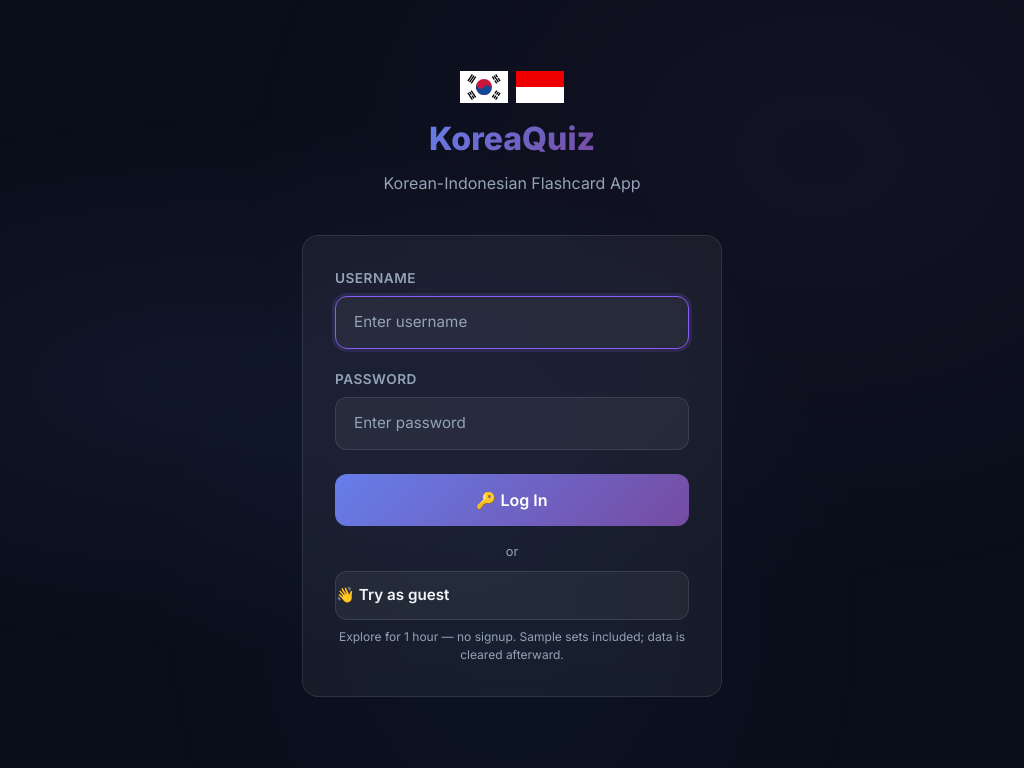
Test: LoginPage — loading state › re-enables the button after login fails
Type "user" into the field with placeholder "Enter username".
click(512, 323); type("user")  # box [335,296,689,349]
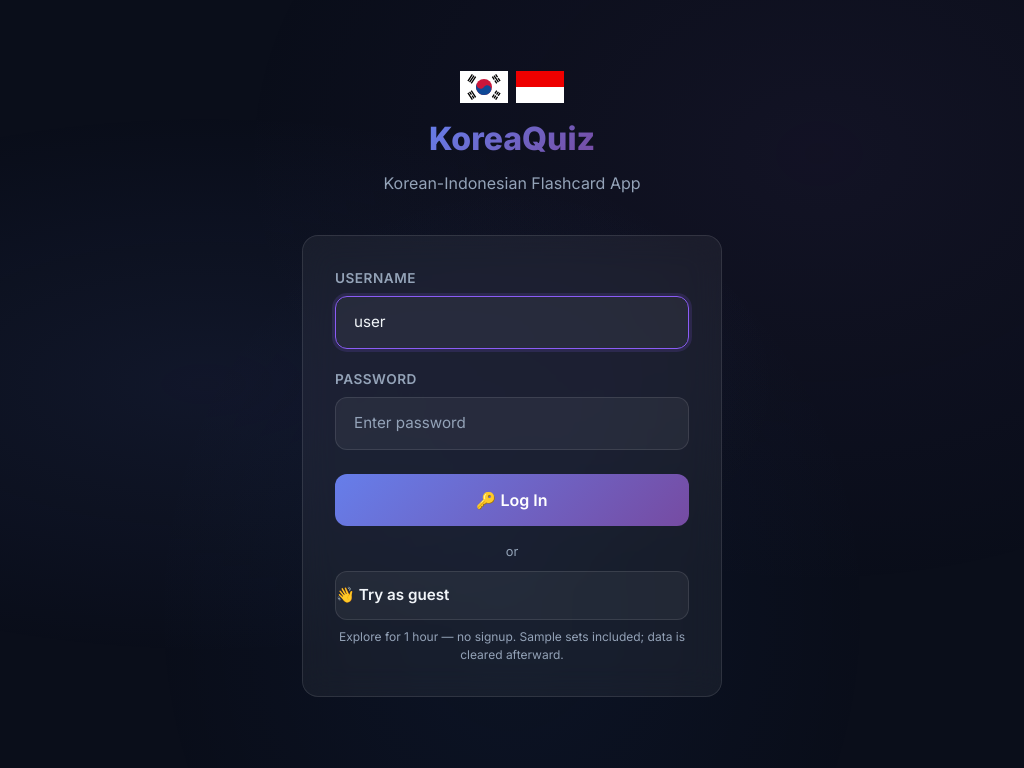
Type "password" into the password field with placeholder "Enter password".
click(512, 424); type("password")  # box [335,397,689,450]
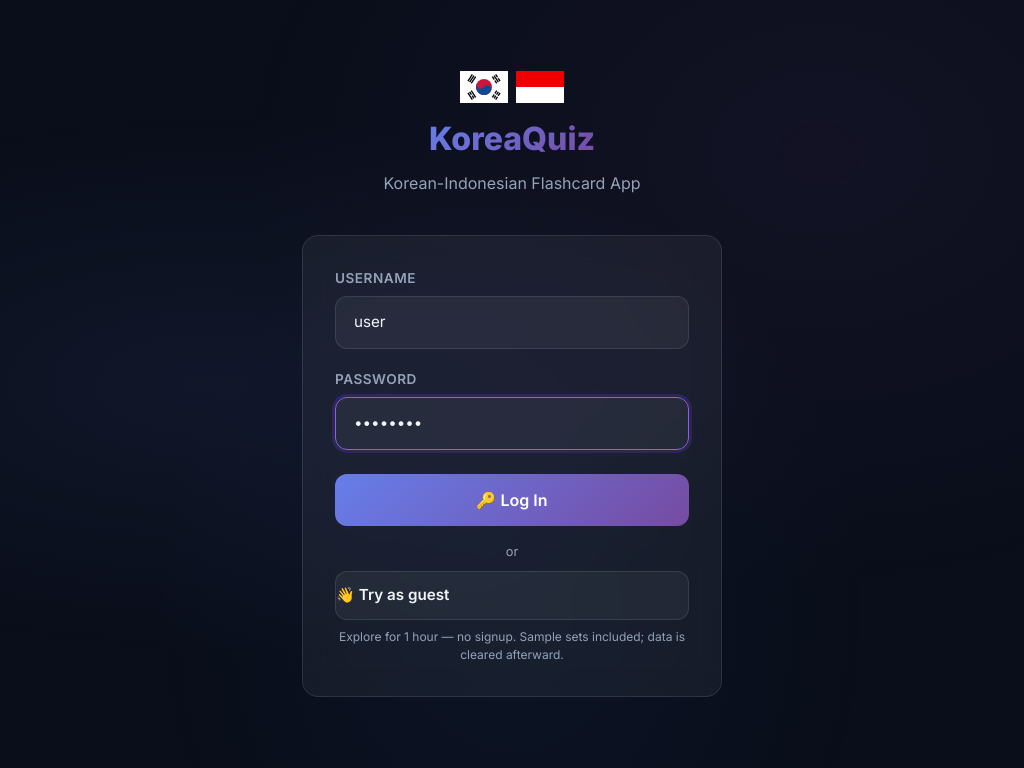
Click the button "🔑 Log In".
click(512, 500)  # box [335,474,689,526]
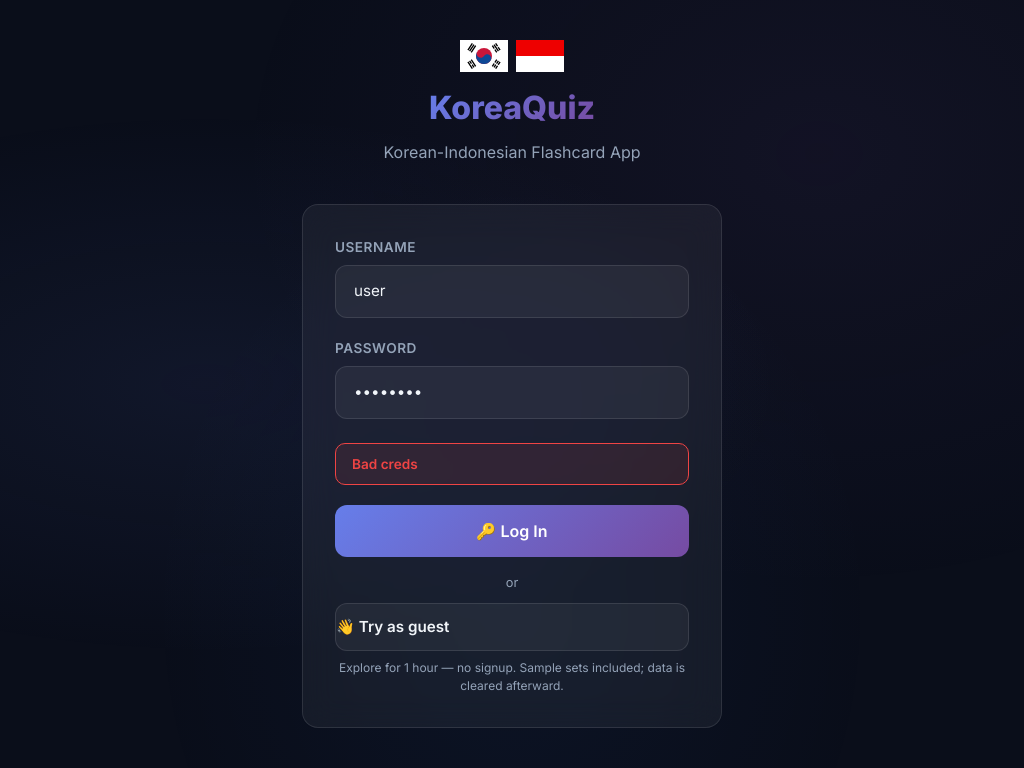
Expected: the button "🔑 Log In" is enabled, [335,505,689,557]
Result: the text "Bad creds" is shown at [335,443,689,485]
